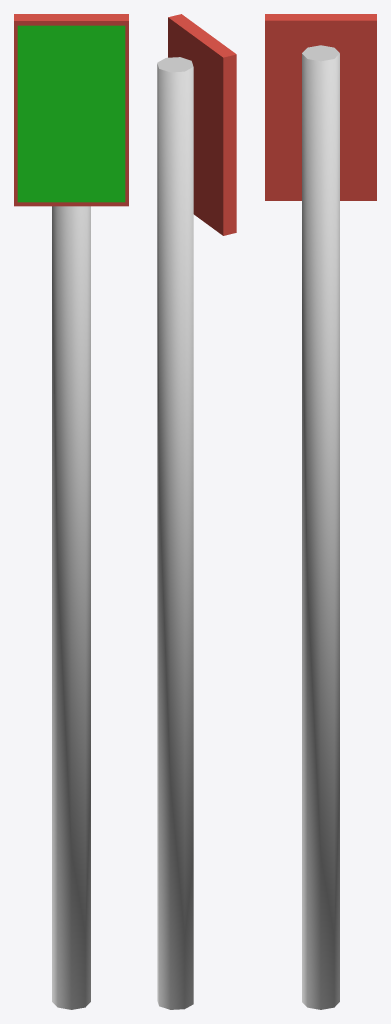
The picture shows the model from 3 angles, left to right: view 1: azimuth 90°, elevation 25°; view 2: azimuth 210°, elevation 25°; view 3: azimuth 270°, elevation 25°; orthographic projection. The views are drawn at different scales.
Parts seen in each view (by area): view 1: lf7; view 2: lf7; view 3: lf7.
Part boxes in pixels (x1,y1,x2,y2): lf7: (14, 14, 128, 1009); lf7: (157, 14, 236, 1009); lf7: (265, 14, 376, 1009).
Bounding box in the file's own units: 0.0999 × 1.8 × 0.1876.
